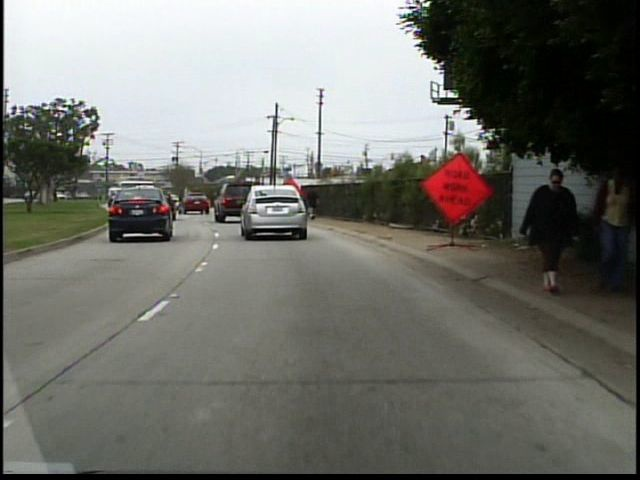person: (510, 160, 580, 303), (301, 179, 323, 218)
